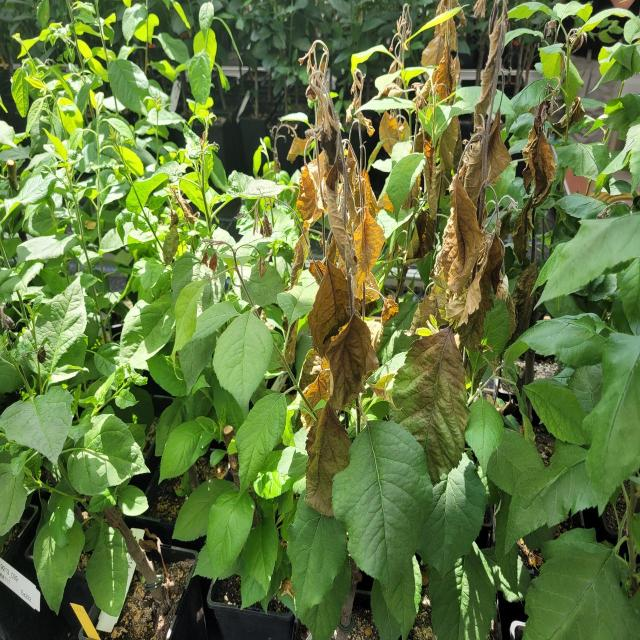-FireBlight-: (381, 10, 516, 478), (277, 36, 401, 506), (509, 91, 566, 318)
